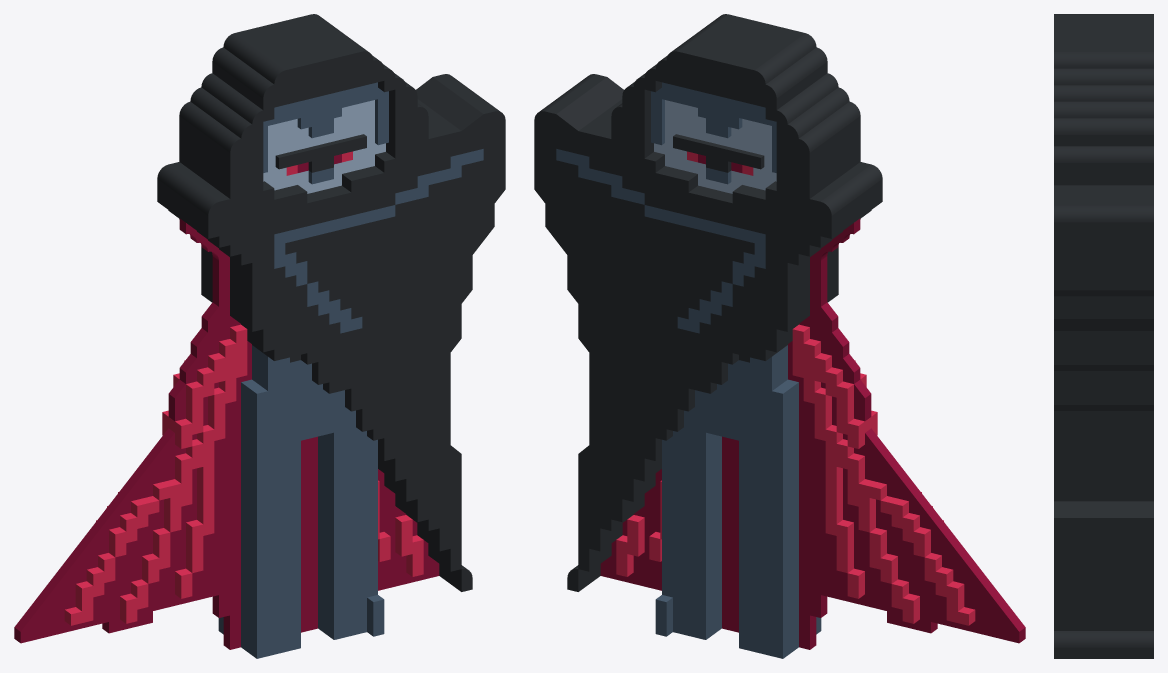
File: vamp1.obj
3 views of the same model, side by side, from view 1: azimuth 30°, elevation 25°; view 2: azimuth 150°, elevation 25°; view 3: azimuth 270°, elevation 25° (orthographic).
Bounding box in the file's own units: 42 × 51 × 8.
